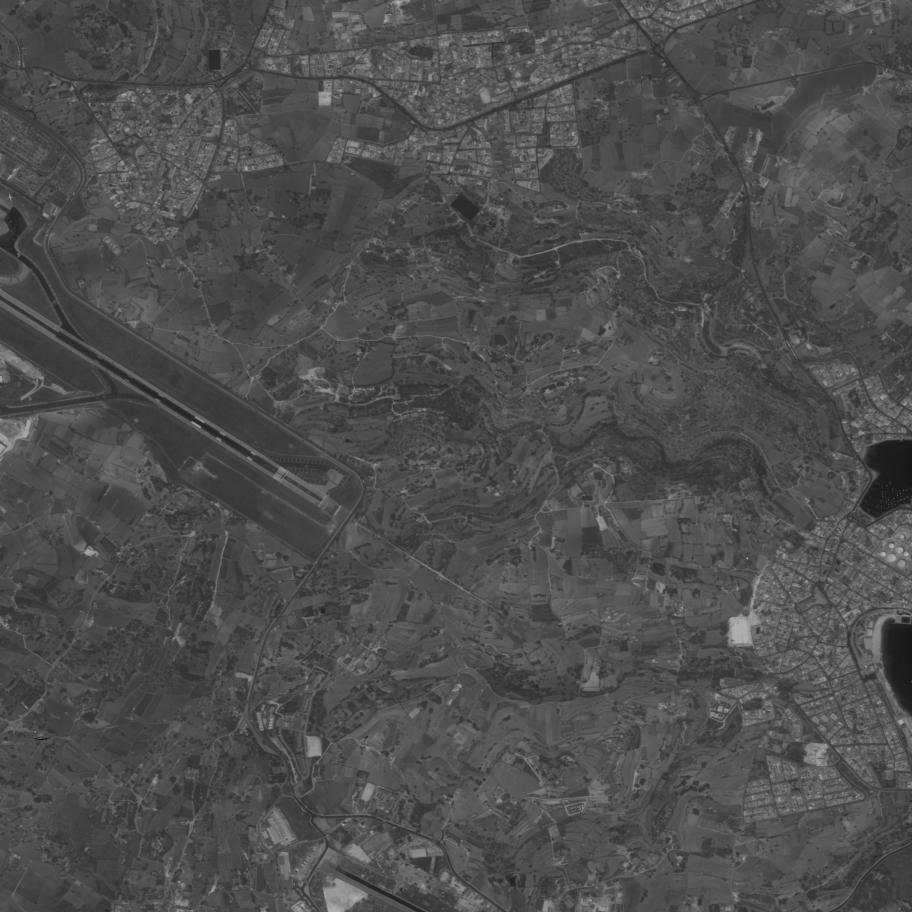plane: (4, 191, 17, 205), (418, 880, 430, 892)
storage-tank: (896, 559, 907, 568), (887, 553, 896, 562), (895, 546, 905, 554), (888, 542, 895, 549), (880, 551, 887, 557), (903, 551, 909, 557), (899, 534, 905, 539)
